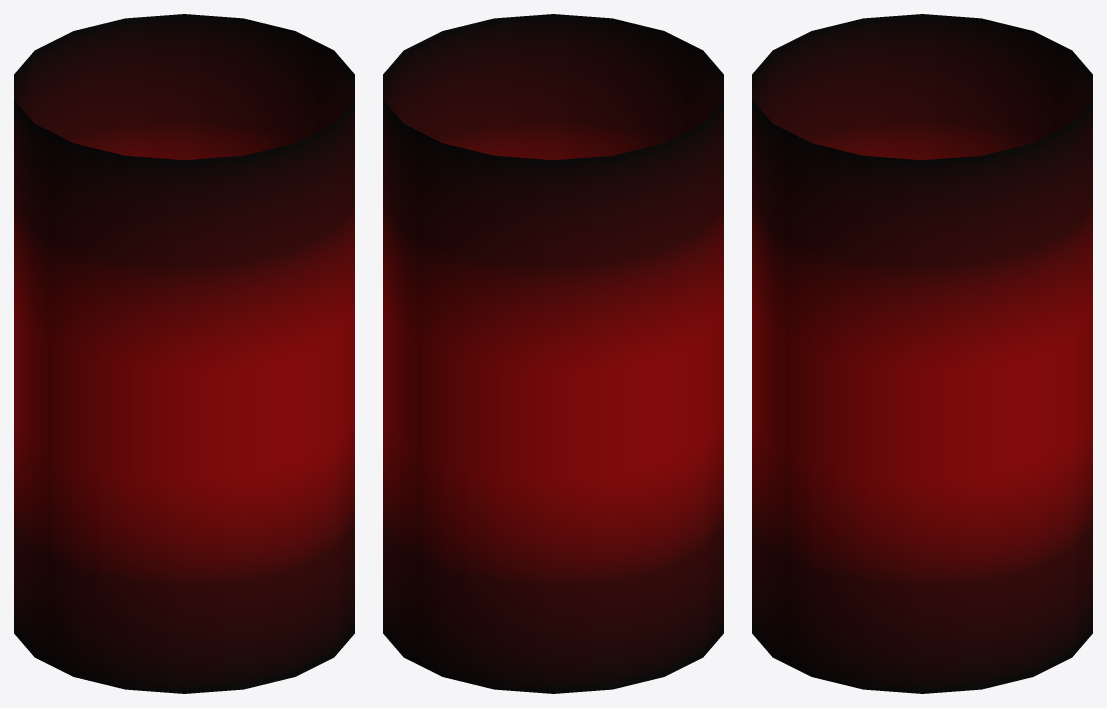
File: VFX Cylindre.fbx
3 renders of one model, left to right at view 1: azimuth 30°, elevation 25°; view 2: azimuth 150°, elevation 25°; view 3: azimuth 270°, elevation 25°, orthographic.
Parts seen in each view (by area): view 1: Cylinder001; view 2: Cylinder001; view 3: Cylinder001.
Boxes of the visible parts, x1,y1,x2,y2 form: Cylinder001: [14, 14, 354, 693]; Cylinder001: [383, 14, 723, 693]; Cylinder001: [752, 14, 1092, 693].
Size of the model in its own units: 20.92 by 35.61 by 20.6.
